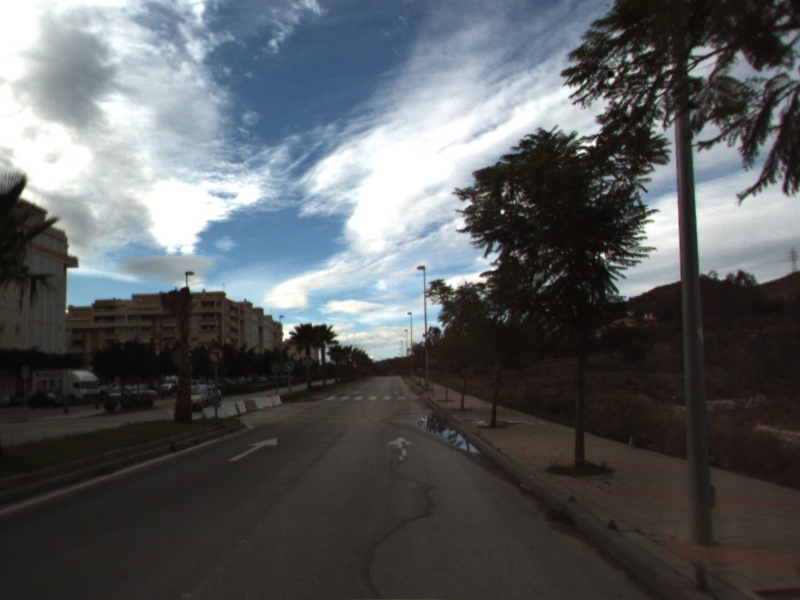STRAIGHT: (226, 436, 279, 463), (384, 434, 417, 463)
